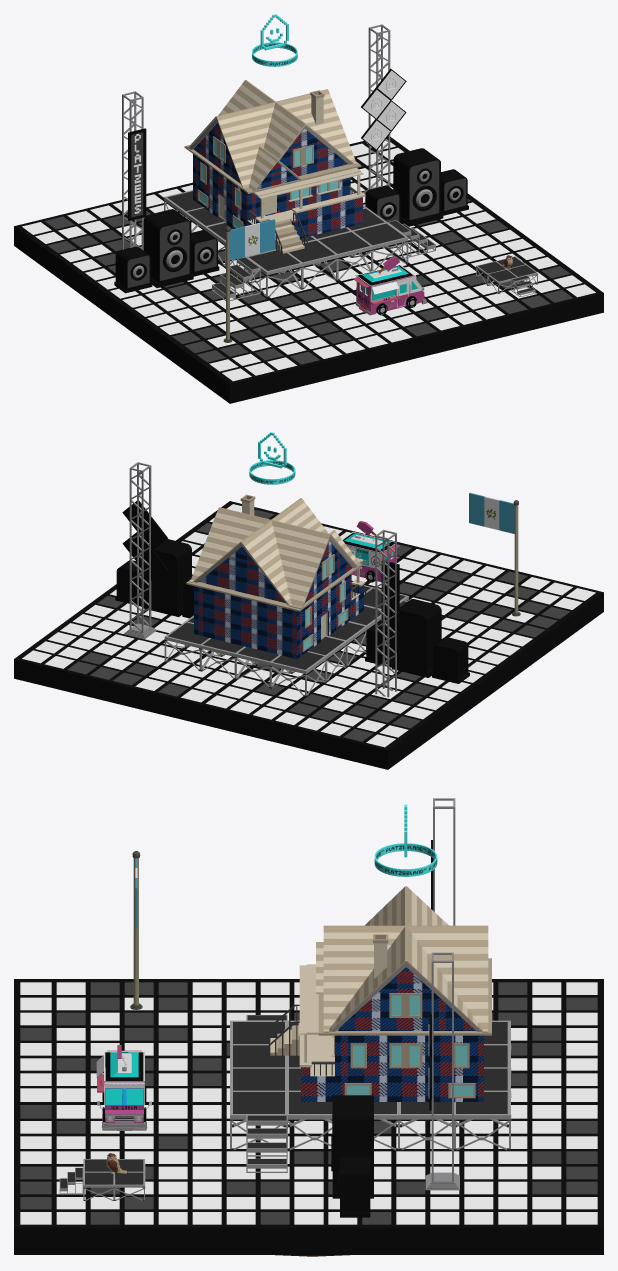
3 renders of one model, top to bottom at view 1: azimuth 30°, elevation 25°; view 2: azimuth 150°, elevation 25°; view 3: azimuth 270°, elevation 25°, orthographic. The views are drawn at different scales.
Visible parts, largest first — view 1: Cube.008, Cube.171, VEHICLES_ICE_CREAM_TRUCK, OBJRANDOM_GUATEMALAN_FLAG, TYPE_PREMIUM; view 2: Cube.008, Cube.171, OBJRANDOM_GUATEMALAN_FLAG, VEHICLES_ICE_CREAM_TRUCK, TYPE_PREMIUM; view 3: Cube.008, Cube.171, VEHICLES_ICE_CREAM_TRUCK, TYPE_PREMIUM, OBJRANDOM_GUATEMALAN_FLAG.
Boxes of the visible parts, x1,y1,x2,y2 form: Cube.008: [14, 24, 603, 403]; Cube.171: [184, 80, 365, 254]; VEHICLES_ICE_CREAM_TRUCK: [353, 256, 427, 315]; OBJRANDOM_GUATEMALAN_FLAG: [223, 219, 275, 342]; TYPE_PREMIUM: [252, 14, 297, 66]; Cube.008: [14, 462, 603, 769]; Cube.171: [186, 494, 366, 658]; OBJRANDOM_GUATEMALAN_FLAG: [469, 493, 520, 616]; VEHICLES_ICE_CREAM_TRUCK: [342, 521, 399, 582]; TYPE_PREMIUM: [249, 432, 295, 484]; Cube.008: [14, 798, 603, 1254]; Cube.171: [268, 886, 491, 1101]; VEHICLES_ICE_CREAM_TRUCK: [96, 1045, 151, 1130]; TYPE_PREMIUM: [374, 804, 437, 876]; OBJRANDOM_GUATEMALAN_FLAG: [130, 851, 142, 1009].
Bounding box in the file's own units: 4000 × 2578 × 4000.
Materials: 52 (3 with a texture image).
